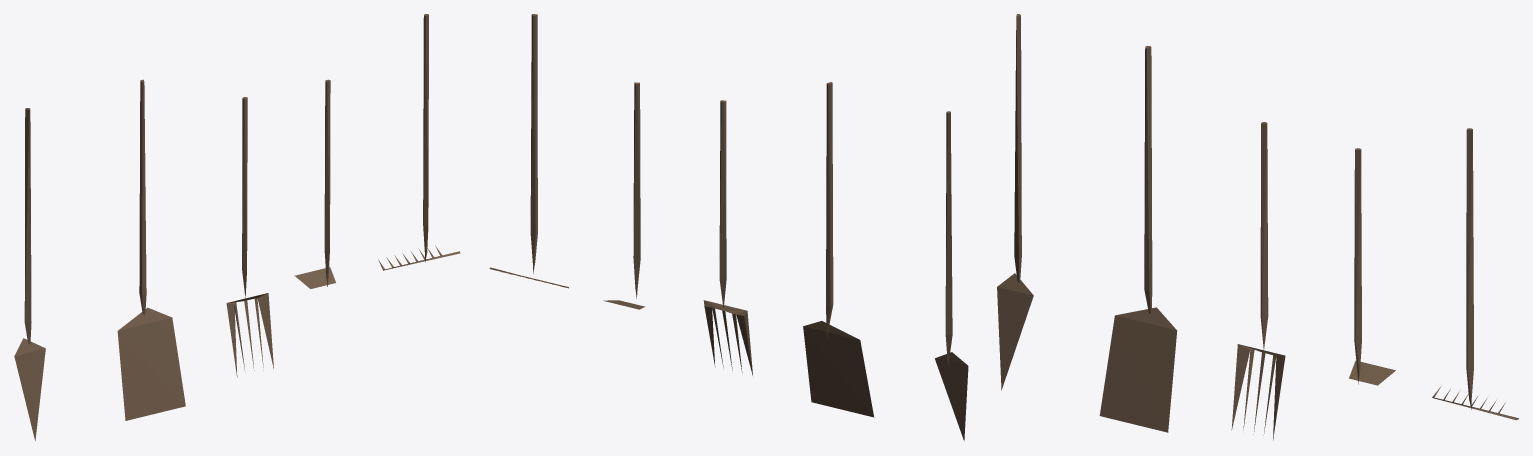
File: farm-tools.lod1.glb
3 views of the same model, side by side, from view 1: azimuth 30°, elevation 25°; view 2: azimuth 150°, elevation 25°; view 3: azimuth 330°, elevation 25° (orthographic). The views are drawn at different scales.
Parts seen in each view (by area): view 1: Object_4; view 2: Object_4; view 3: Object_4.
Boxes of the visible parts, <box> form: Object_4: <box>14,14,460,440</box>; Object_4: <box>489,14,968,440</box>; Object_4: <box>997,14,1518,440</box>.
Size of the model in its own units: 2.34 by 1.6 by 0.2545.
